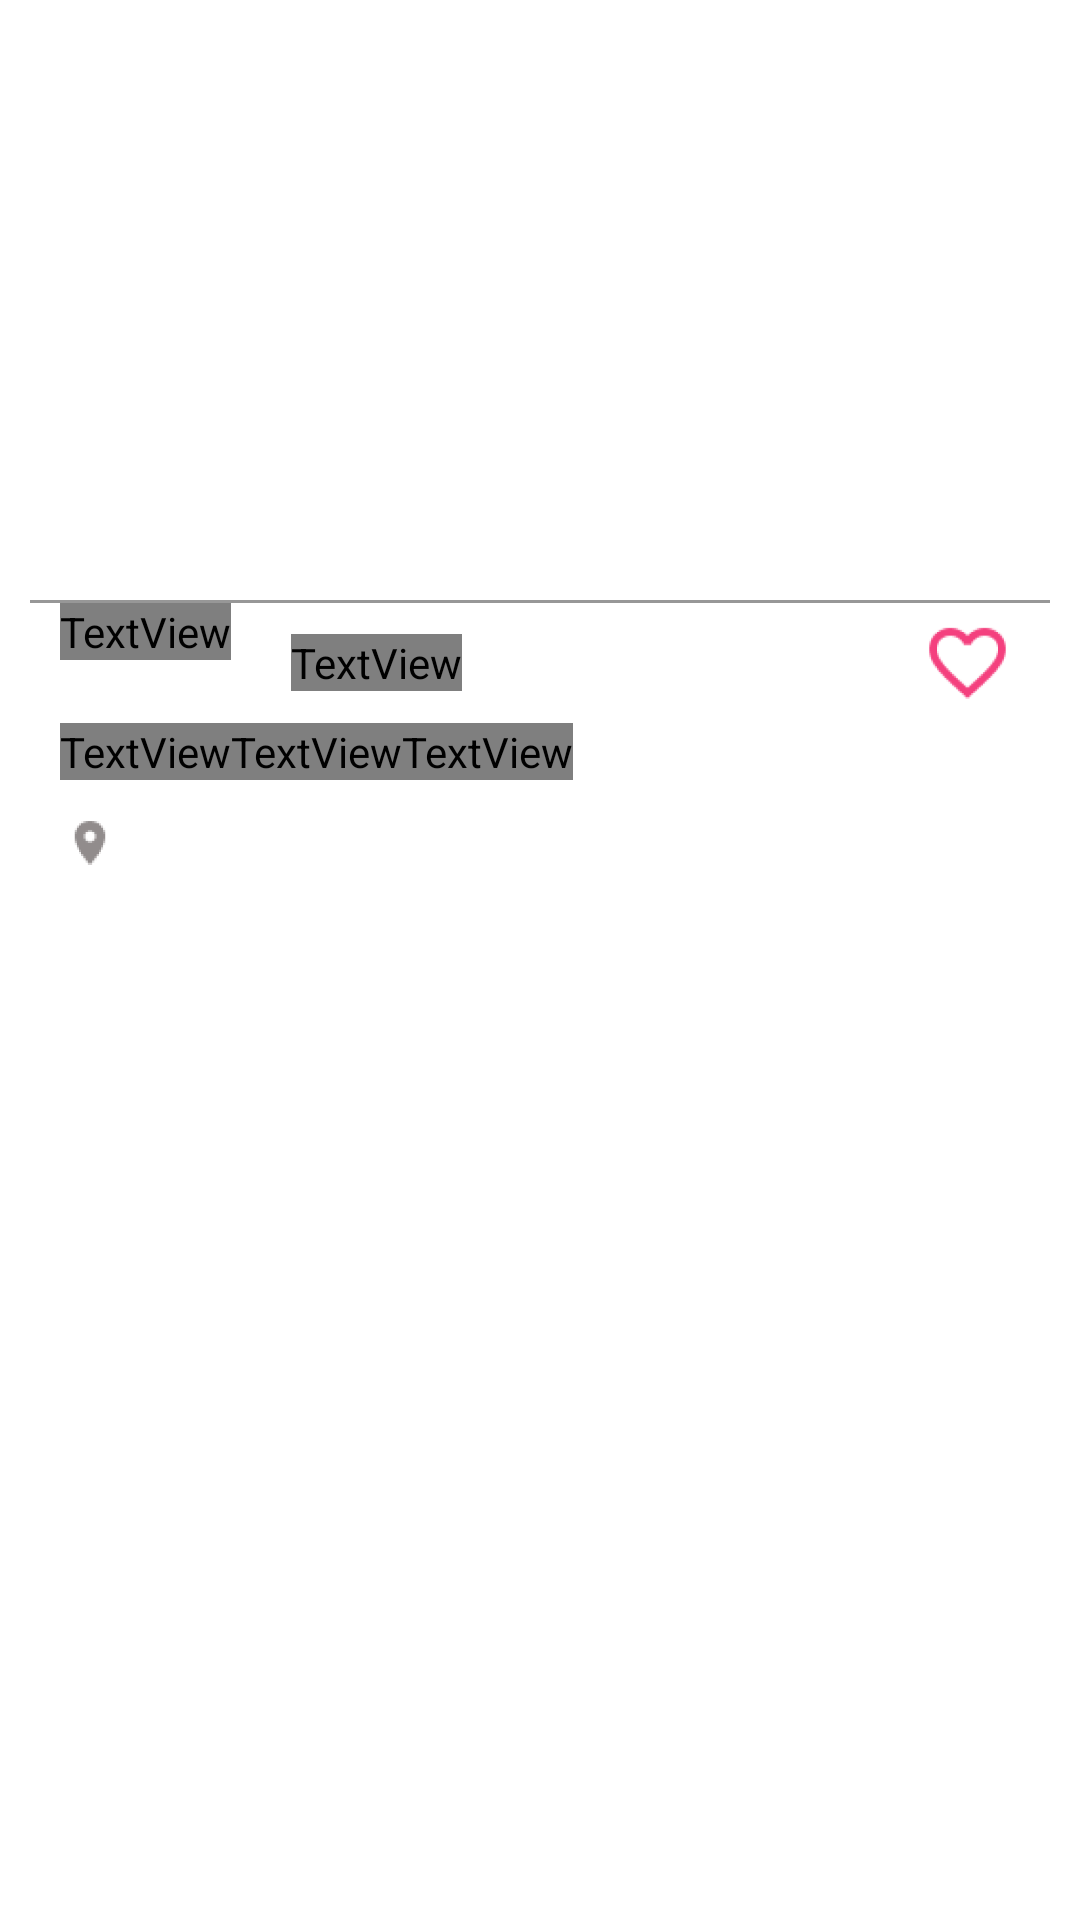

Icons on this 1080 x 1920 Android screen, each with its box as (x1, y1, x2, y2):
favorite border: (929, 628, 1006, 699)
location: (74, 821, 106, 865)
